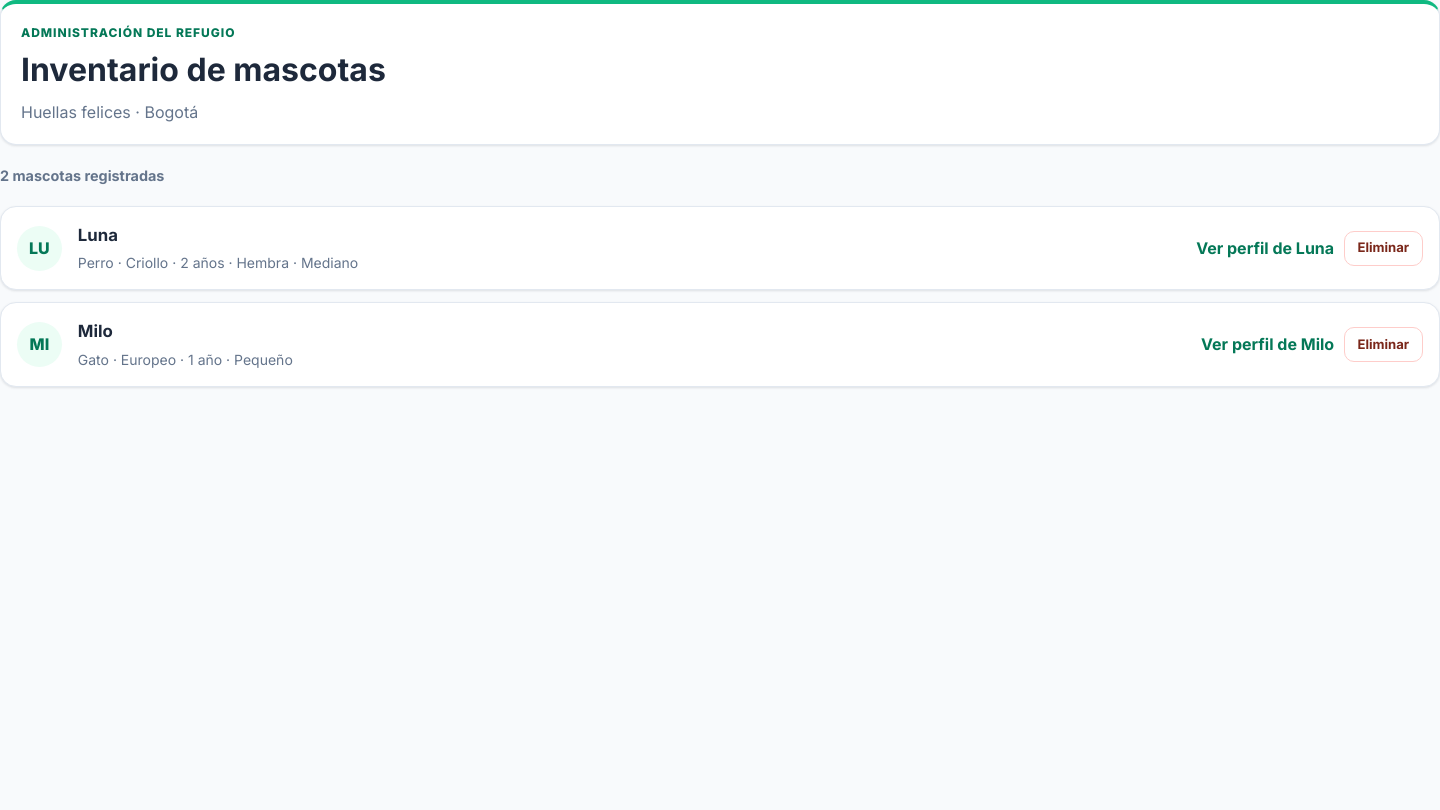
Test case: PetInventoryPage › removes the pet and updates the count after a successful deletion
The image size is (1440, 810).
expect the heading "Inventario de mascotas" is shown: met, box [21, 46, 386, 94]
Click the button with aria-label "Eliminar a Luna" at (1383, 248), box [1344, 231, 1423, 266]
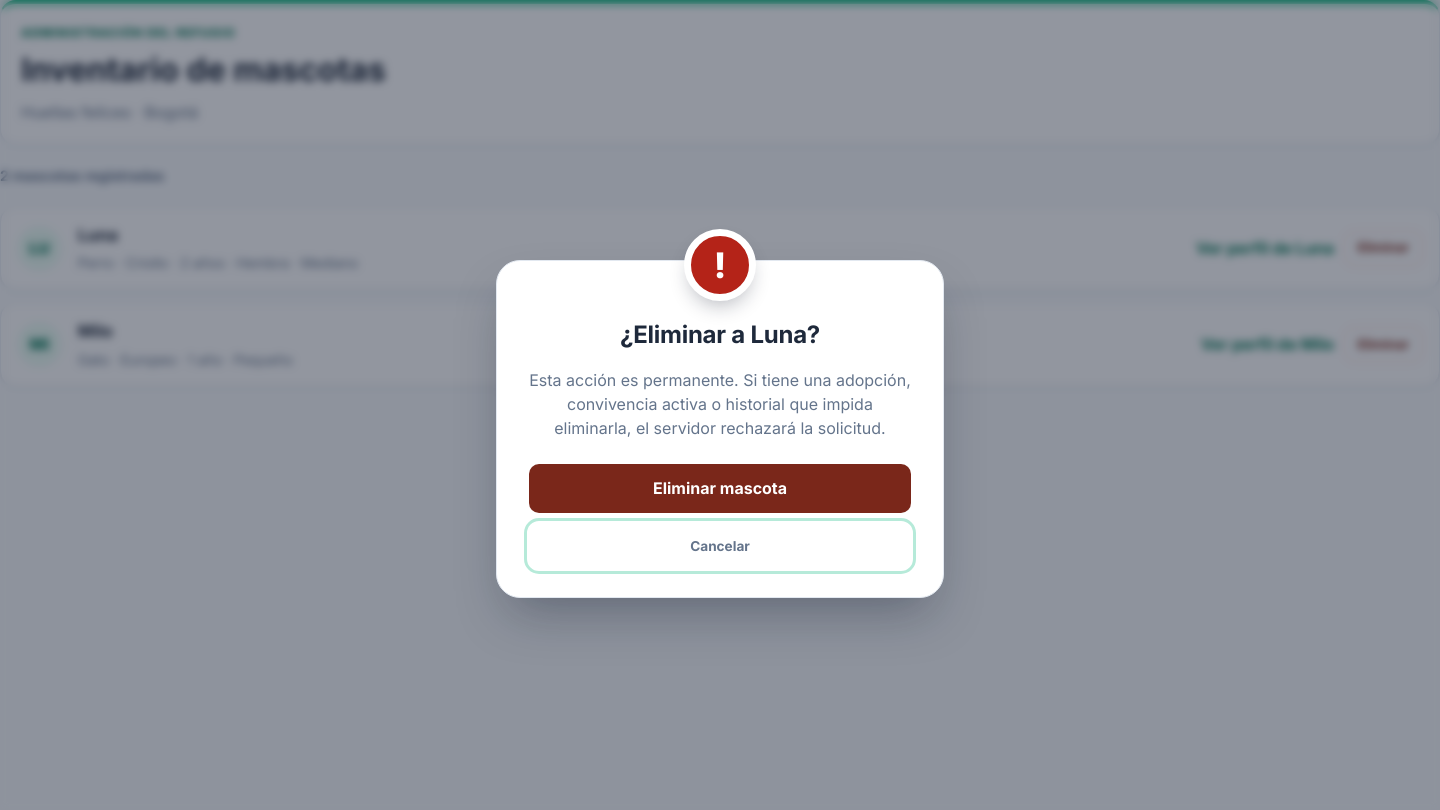
Click the button "Eliminar mascota" at (720, 488), box [529, 464, 911, 513]
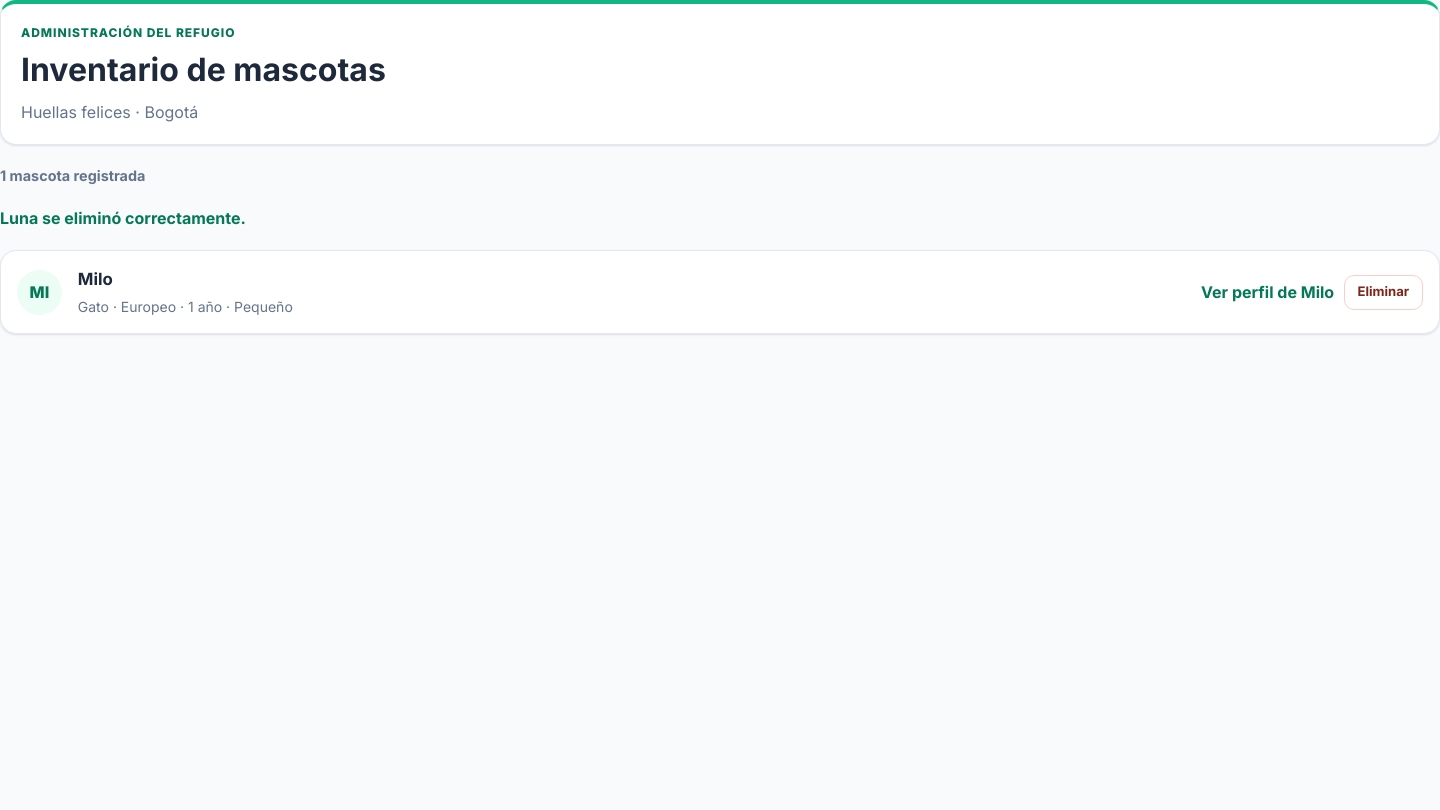
expect the text "1 mascota registrada" is shown: met, box [0, 167, 145, 184]
